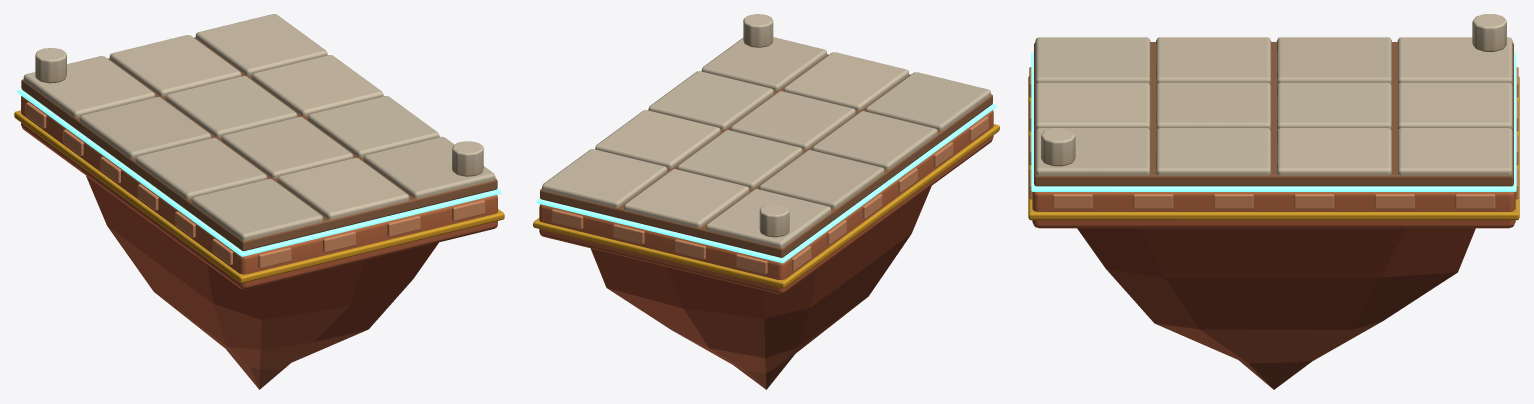
File: PLAT_Ruin_M.glb
3 views of the same model, side by side, from view 1: azimuth 30°, elevation 25°; view 2: azimuth 150°, elevation 25°; view 3: azimuth 270°, elevation 25° (orthographic). The views are drawn at different scales.
Parts seen in each view (by area): view 1: Stone, EdgeGlow; view 2: Stone, EdgeGlow; view 3: Stone, EdgeGlow.
Boxes of the visible parts, box(x1,y1,x2,y2) form: Stone: box(14, 14, 504, 389); EdgeGlow: box(17, 89, 501, 256); Stone: box(533, 14, 999, 389); EdgeGlow: box(536, 104, 996, 263); Stone: box(1028, 14, 1519, 389); EdgeGlow: box(1031, 52, 1516, 191).
Size of the model in its own units: 4.1 by 4.28 by 6.1.
